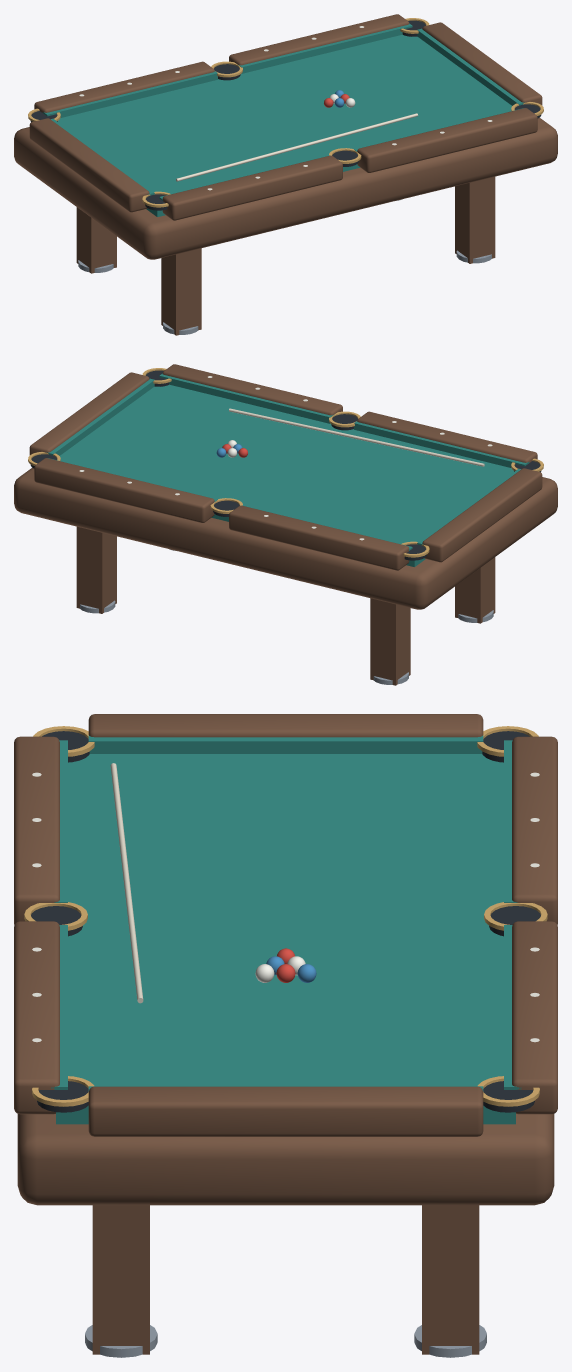
File: bb_set_pooltable.fbx
3 views of the same model, one above another, from view 1: azimuth 30°, elevation 25°; view 2: azimuth 150°, elevation 25°; view 3: azimuth 270°, elevation 25° (orthographic). The views are drawn at different scales.
Visible parts, largest first — view 1: bb_set_pooltable; view 2: bb_set_pooltable; view 3: bb_set_pooltable.
Part boxes in pixels (x1=…): bb_set_pooltable: x1=14, y1=14, x2=557, y2=335; bb_set_pooltable: x1=14, y1=364, x2=557, y2=685; bb_set_pooltable: x1=14, y1=714, x2=557, y2=1357.
Bounding box in the file's own units: 2.42 × 0.852 × 1.42.
